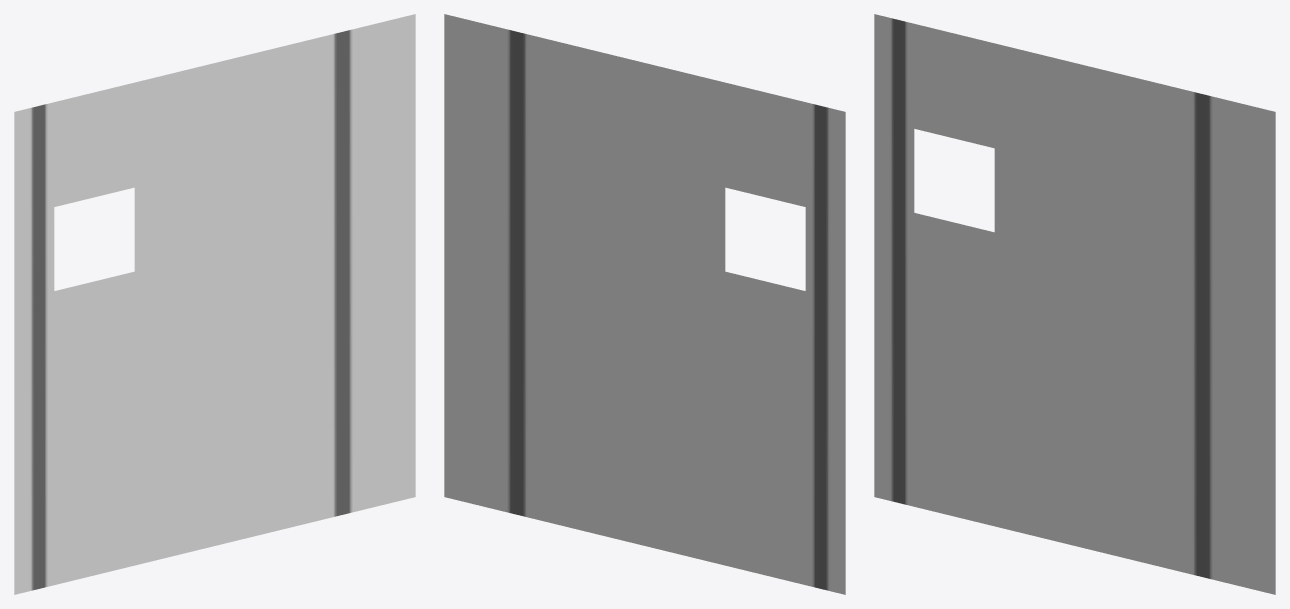
The model's file is SM_WallWithHolePlane_Var1_200x230.fbx.
3 views of the same model, side by side, from view 1: azimuth 30°, elevation 25°; view 2: azimuth 150°, elevation 25°; view 3: azimuth 330°, elevation 25° (orthographic).
Parts seen in each view (by area): view 1: WallWithHolePlane_Var1_200x230; view 2: WallWithHolePlane_Var1_200x230; view 3: WallWithHolePlane_Var1_200x230.
Boxes of the visible parts, x1,y1,x2,y2 form: WallWithHolePlane_Var1_200x230: (14, 14, 415, 594); WallWithHolePlane_Var1_200x230: (444, 14, 845, 594); WallWithHolePlane_Var1_200x230: (874, 14, 1275, 594).
Size of the model in its own units: 200 by 230 by 7.96e-13.
